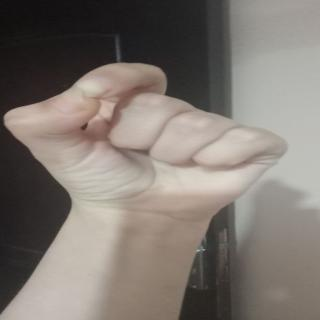FAA: (8, 59, 310, 202)
